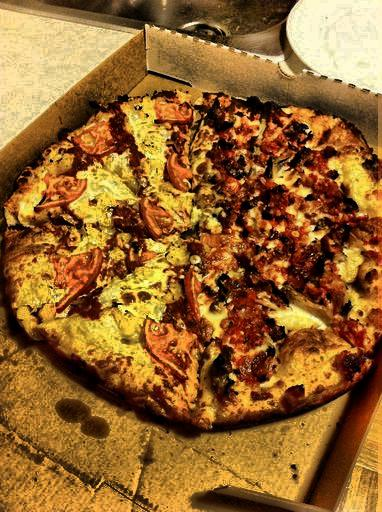pizza: (13, 61, 382, 425)
